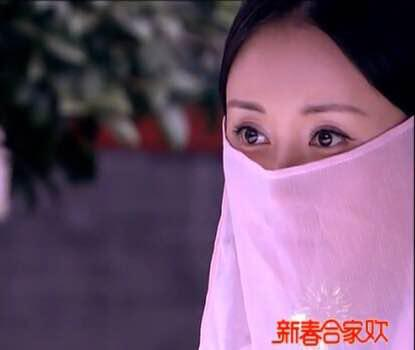OK: (214, 93, 379, 258)
